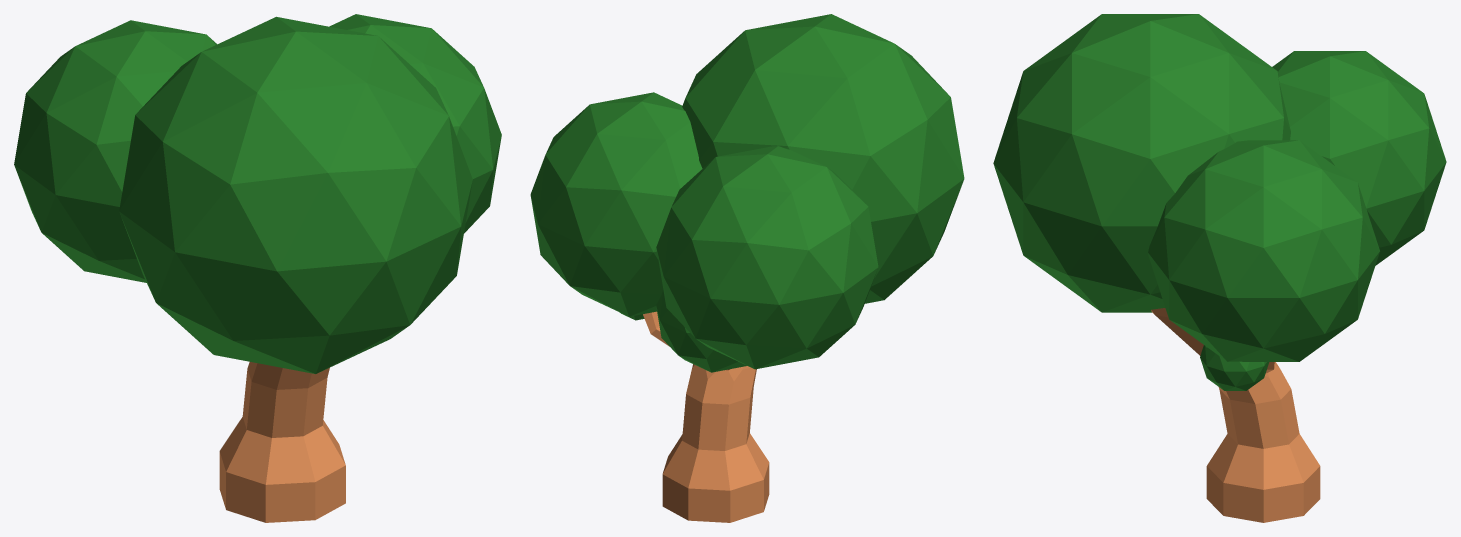
File: TREES_1.fbx
3 renders of one model, left to right at view 1: azimuth 30°, elevation 25°; view 2: azimuth 150°, elevation 25°; view 3: azimuth 270°, elevation 25°, orthographic. The views are drawn at different scales.
Parts seen in each view (by area): view 1: LEAF, TRUNK; view 2: LEAF, TRUNK; view 3: LEAF, TRUNK.
Boxes of the visible parts, x1,y1,x2,y2 form: LEAF: (14,14,501,373); TRUNK: (219,362,345,522); LEAF: (530,14,964,372); TRUNK: (643,311,769,522); LEAF: (993,14,1446,390); TRUNK: (1151,308,1320,522).
Size of the model in its own units: 15.82 by 17.52 by 19.45.
